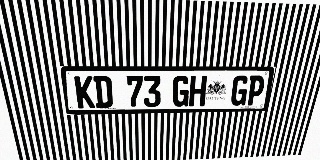3: (144, 76, 161, 107)
7: (125, 76, 143, 108)
D: (93, 76, 113, 108)
G: (230, 76, 250, 106), (172, 76, 190, 107)
H: (189, 76, 207, 106)
K: (74, 76, 95, 108)
P: (245, 75, 266, 105)
